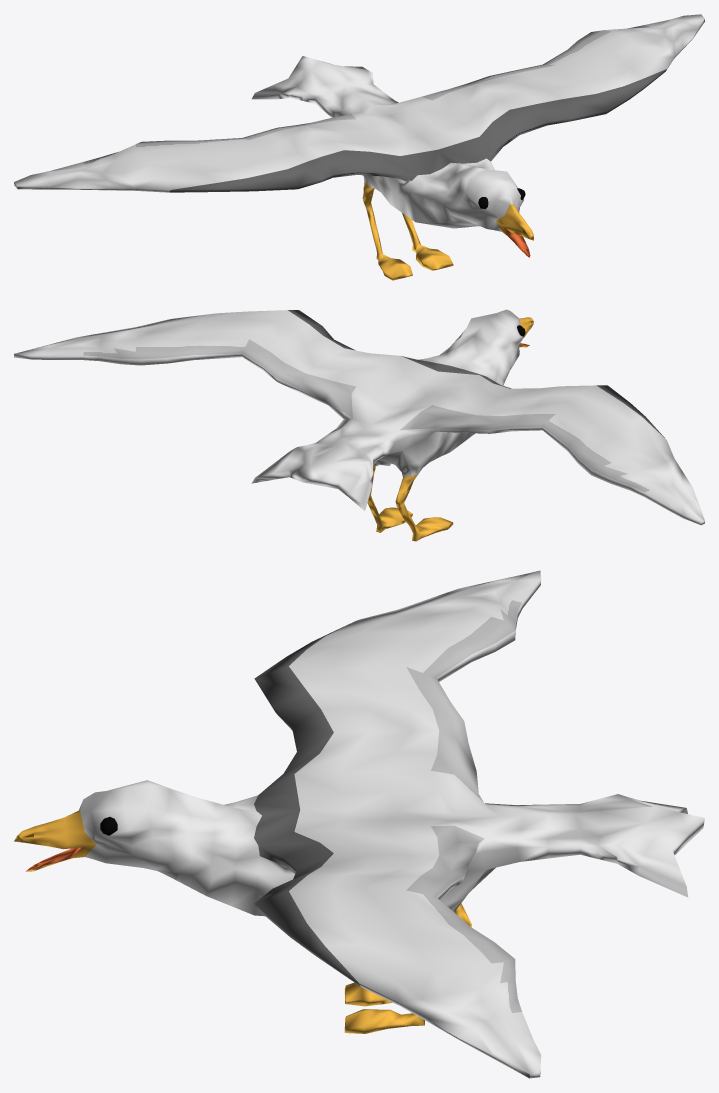
Rendered from model-bird.glb.
3 views of the same model, one above another, from view 1: azimuth 30°, elevation 25°; view 2: azimuth 150°, elevation 25°; view 3: azimuth 270°, elevation 25° (orthographic). The views are drawn at different scales.
Parts seen in each view (by area): view 1: Sphere; view 2: Sphere; view 3: Sphere.
Boxes of the visible parts, x1=… form: Sphere: x1=14, y1=14, x2=704, y2=280; Sphere: x1=14, y1=309, x2=704, y2=541; Sphere: x1=14, y1=570, x2=704, y2=1078.
Bounding box in the file's own units: 3.32 × 0.7191 × 1.93.
1 material, 1 textured.
